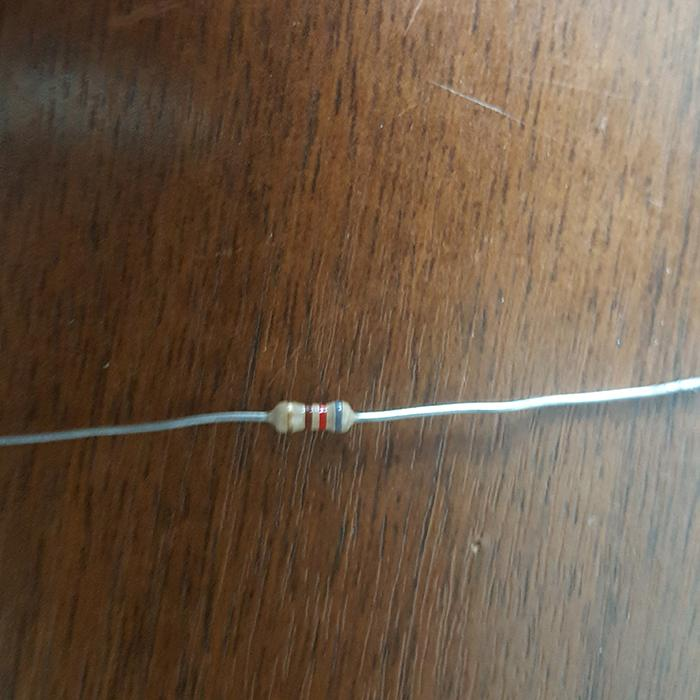resistor: (267, 397, 356, 434)
